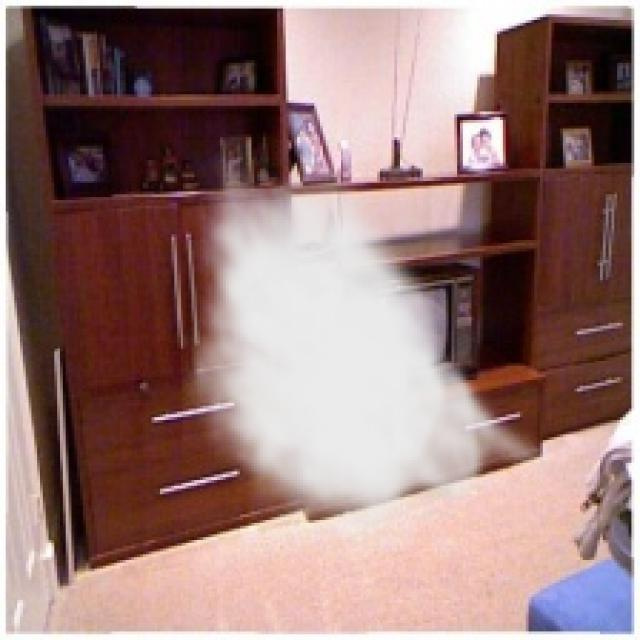Smoke: (180, 154, 560, 549)
